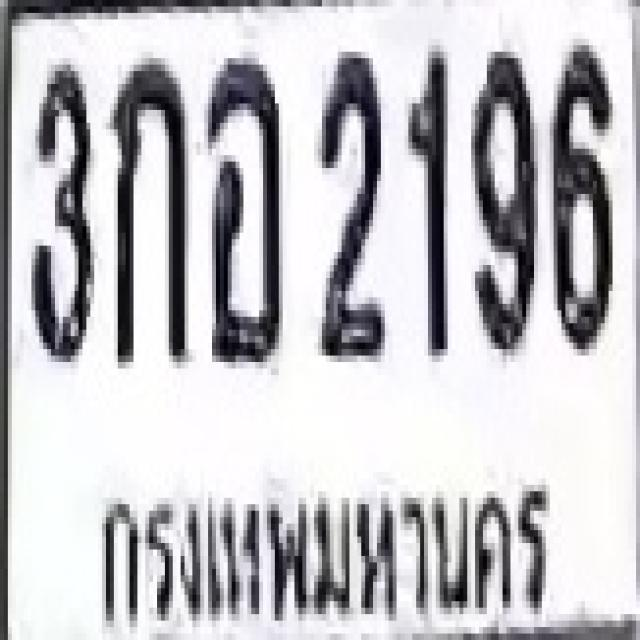1: (404, 45, 448, 349)
2: (314, 52, 385, 356)
3: (28, 58, 90, 356)
6: (548, 39, 610, 349)
9: (467, 45, 534, 349)
A01: (110, 52, 184, 362)
A43: (204, 52, 279, 362)
BKK: (82, 463, 569, 640)
